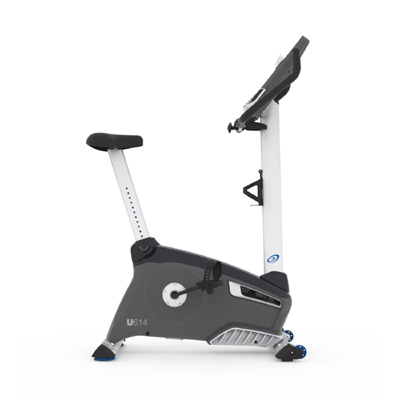gym_bike: (73, 35, 329, 378)
